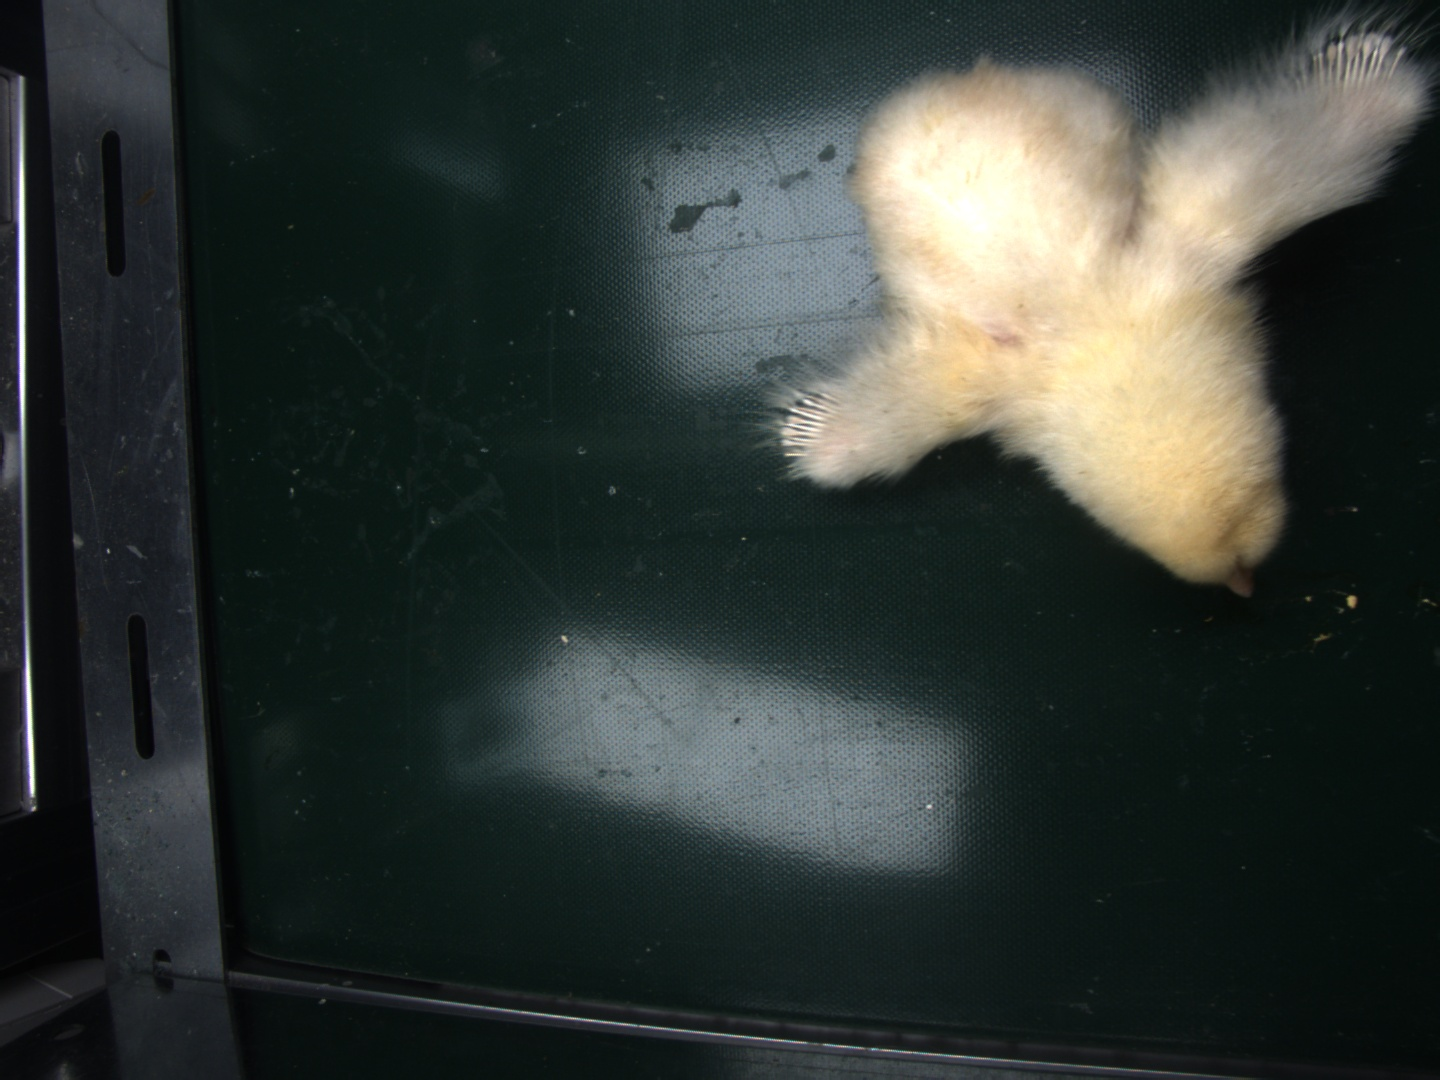male: (778, 389, 835, 457), (1318, 44, 1399, 90)
